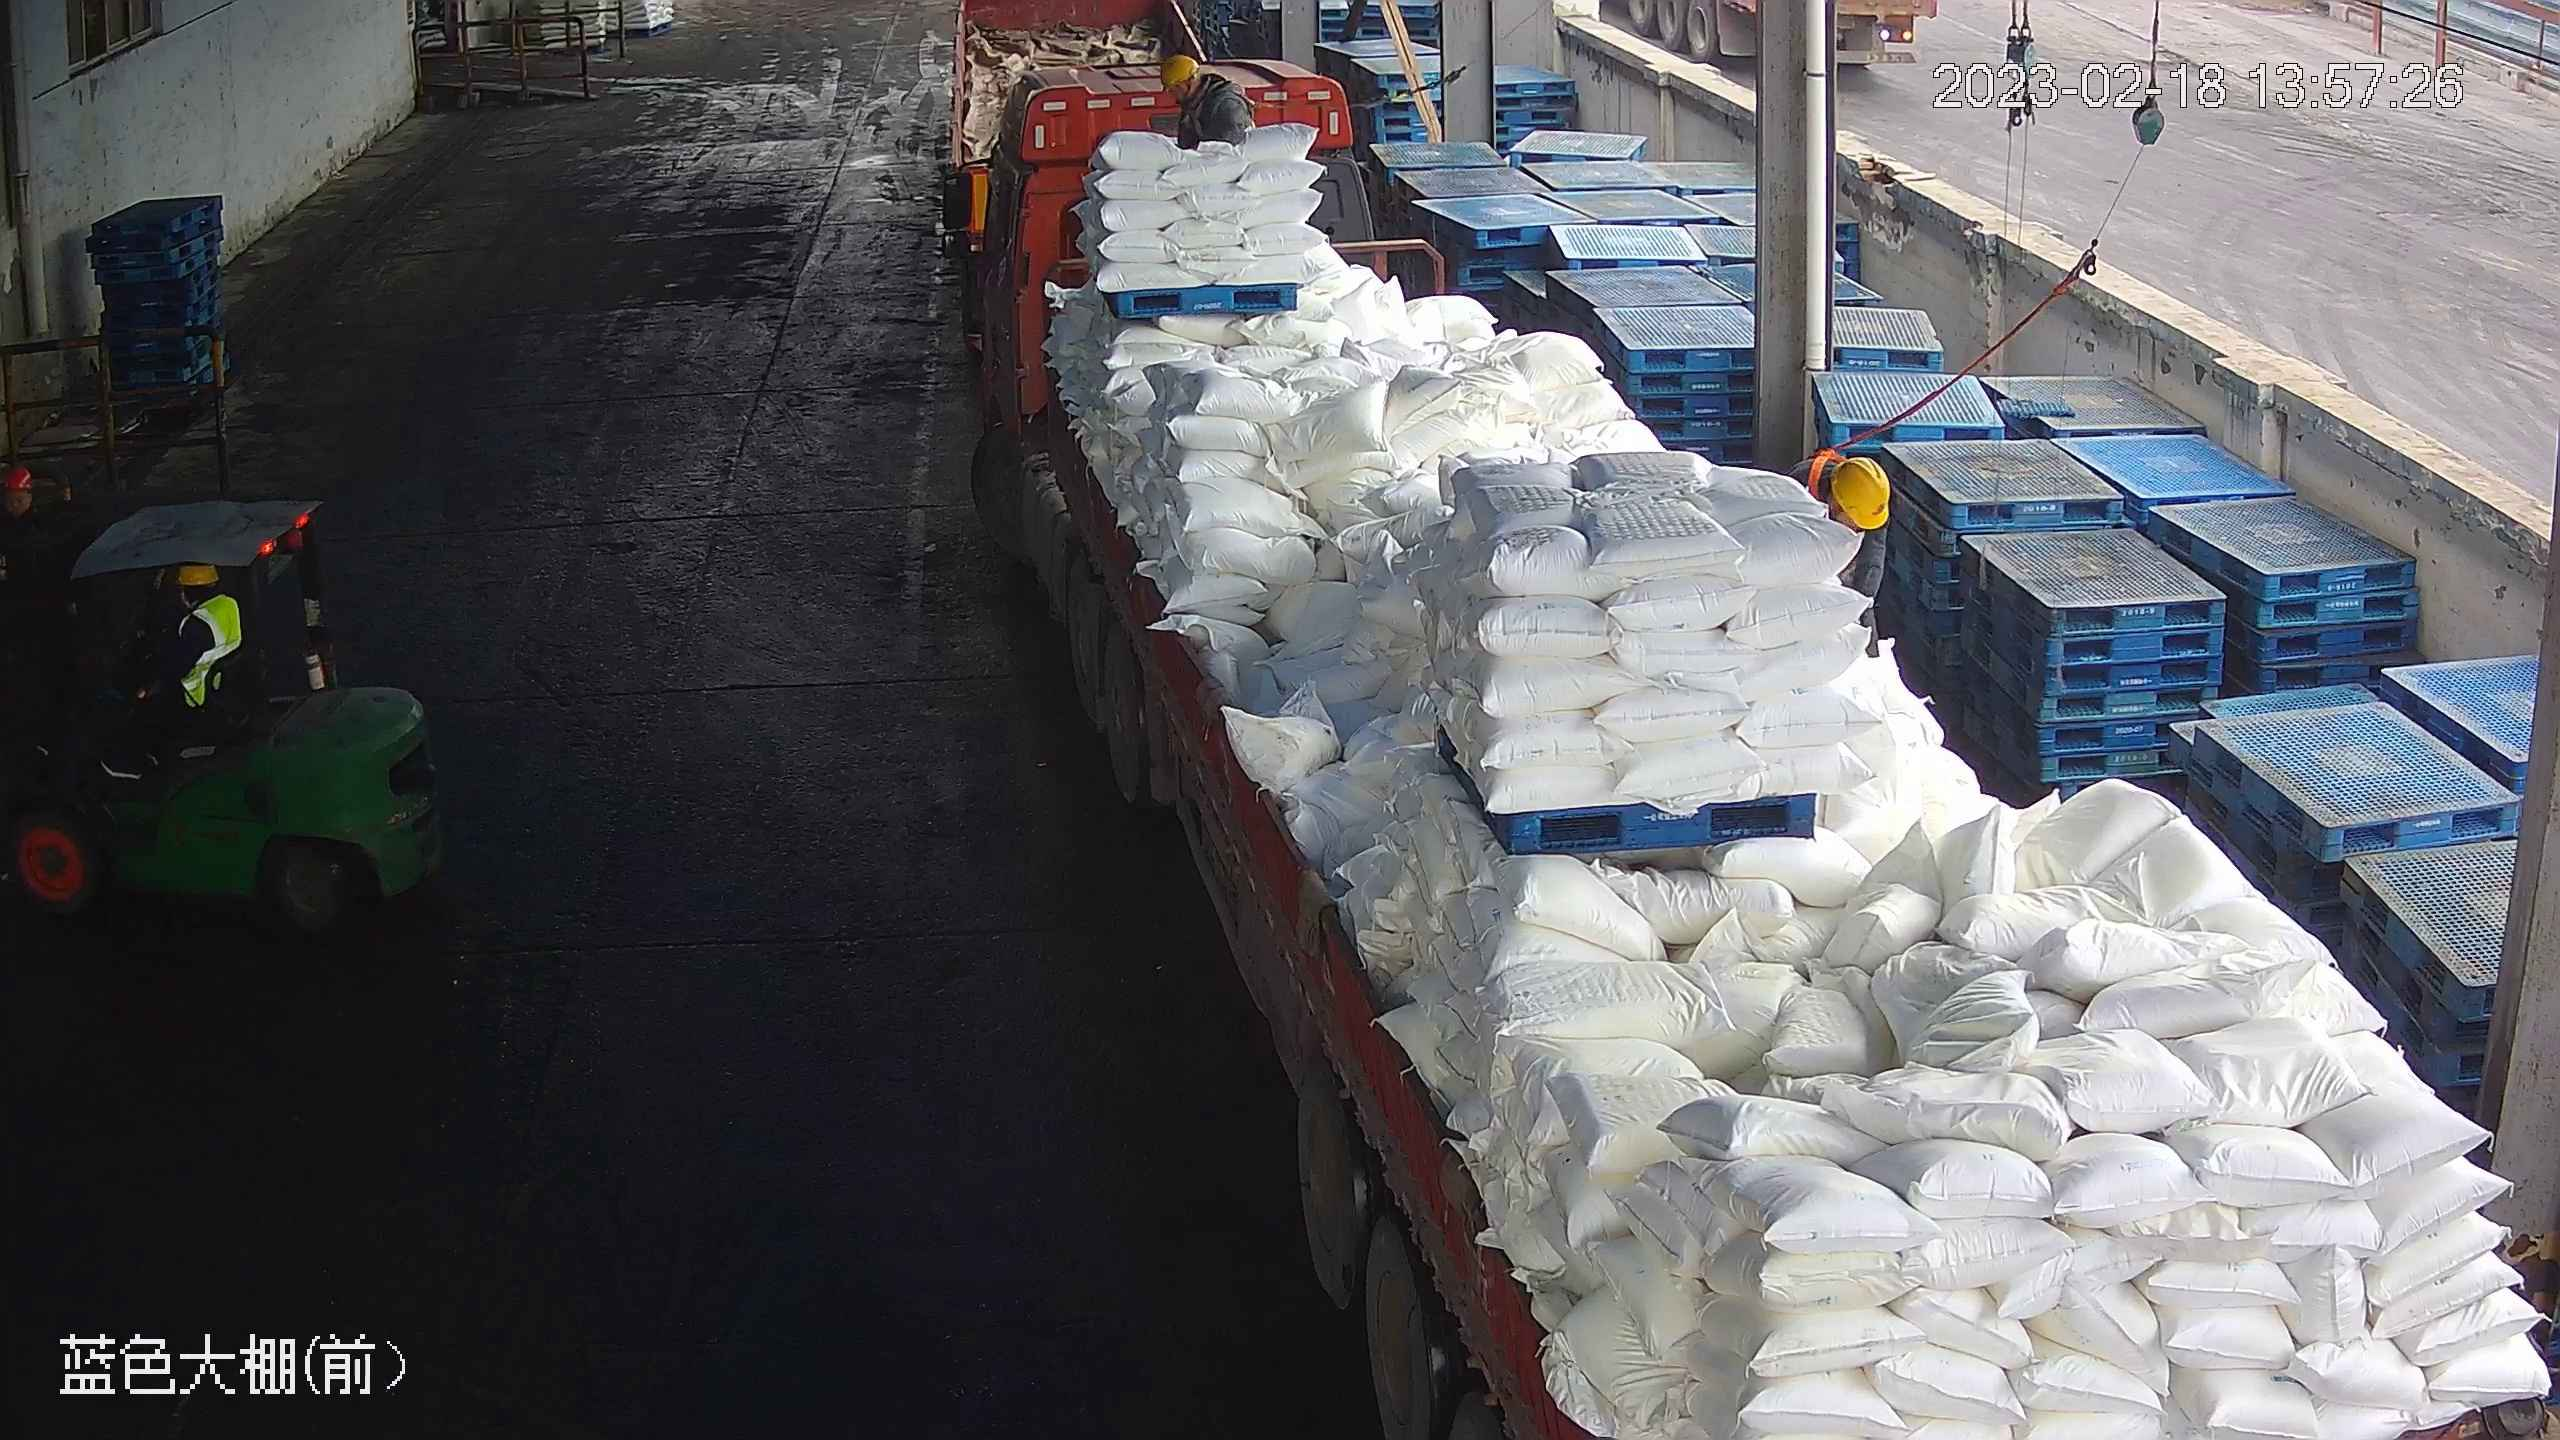belt: (1160, 53, 1238, 115), (1805, 437, 1858, 501), (1190, 73, 1242, 125)
head: (120, 556, 242, 752), (0, 456, 48, 747), (1811, 444, 1886, 531), (169, 562, 240, 646), (1159, 51, 1237, 115), (1, 462, 44, 561)
helmet: (1828, 452, 1893, 532), (1158, 51, 1237, 115), (1158, 51, 1200, 89)
people: (118, 558, 242, 756), (0, 455, 49, 760)
truck: (962, 104, 2555, 1440)
